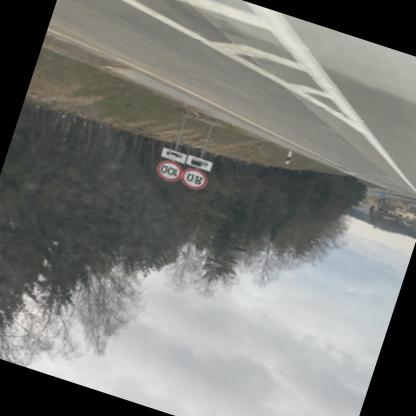speedlimit: (182, 168, 212, 196), (156, 161, 184, 186)
